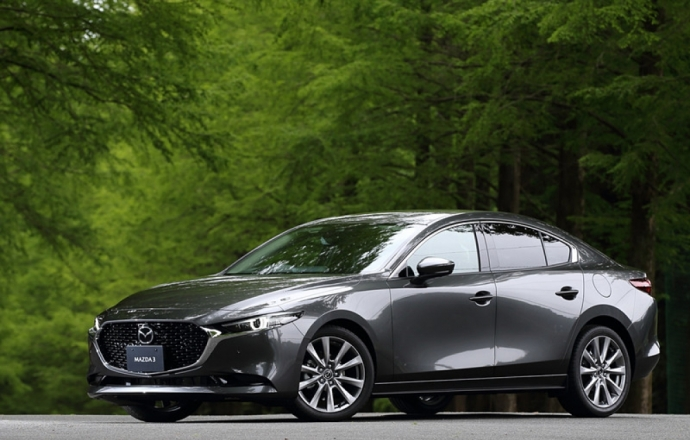sedan: (83, 205, 664, 423)
